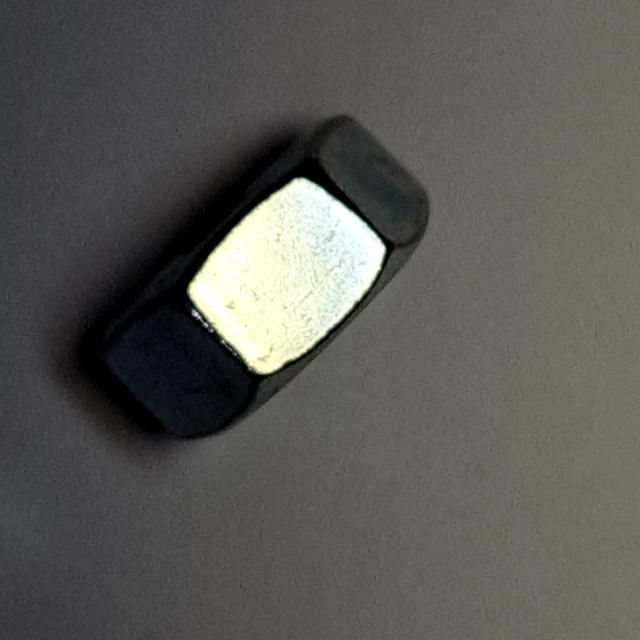Side_Excellent: (75, 105, 454, 454)
